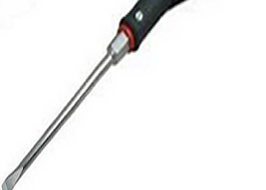Screwdriver: (1, 2, 196, 190)
